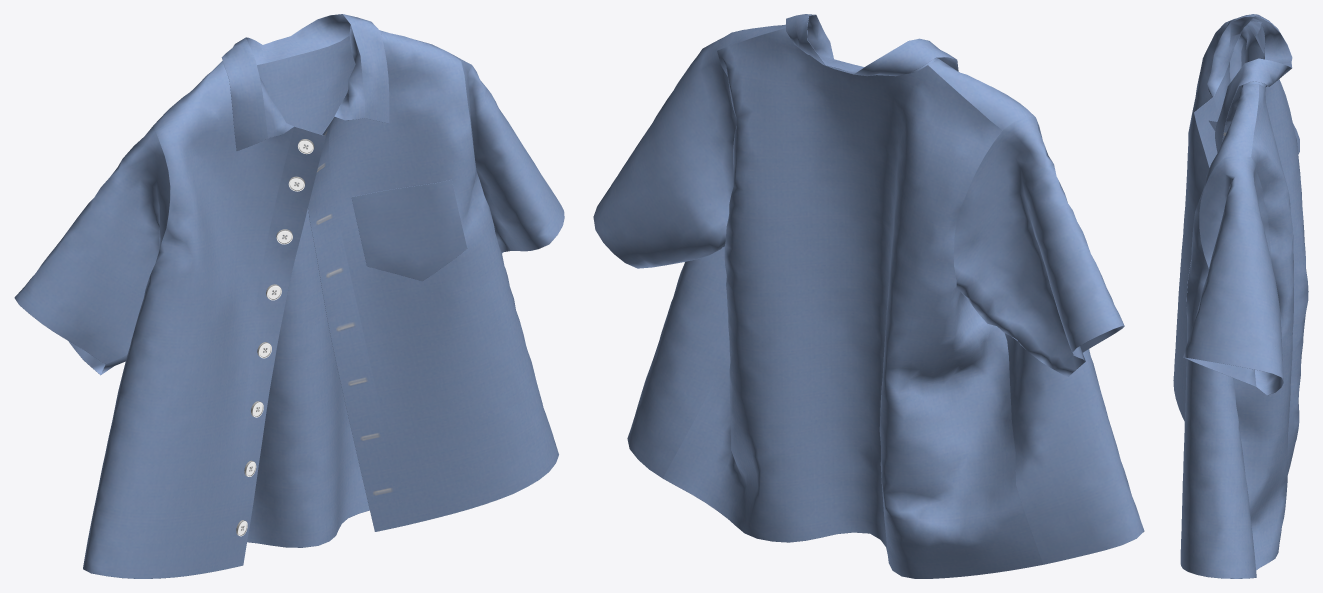
File: FLG_12_04_4.fbx
3 renders of one model, left to right at view 1: azimuth 30°, elevation 25°; view 2: azimuth 150°, elevation 25°; view 3: azimuth 270°, elevation 25°, orthographic. The views are drawn at different scales.
Parts seen in each view (by area): view 1: FLG_12_04_4; view 2: FLG_12_04_4; view 3: FLG_12_04_4.
Boxes of the visible parts, left/top/right/bottom form: FLG_12_04_4: left=14, top=14, right=564, bottom=578; FLG_12_04_4: left=593, top=14, right=1144, bottom=578; FLG_12_04_4: left=1173, top=14, right=1308, bottom=578.
Size of the model in its own units: 73.11 by 68.74 by 17.66.
